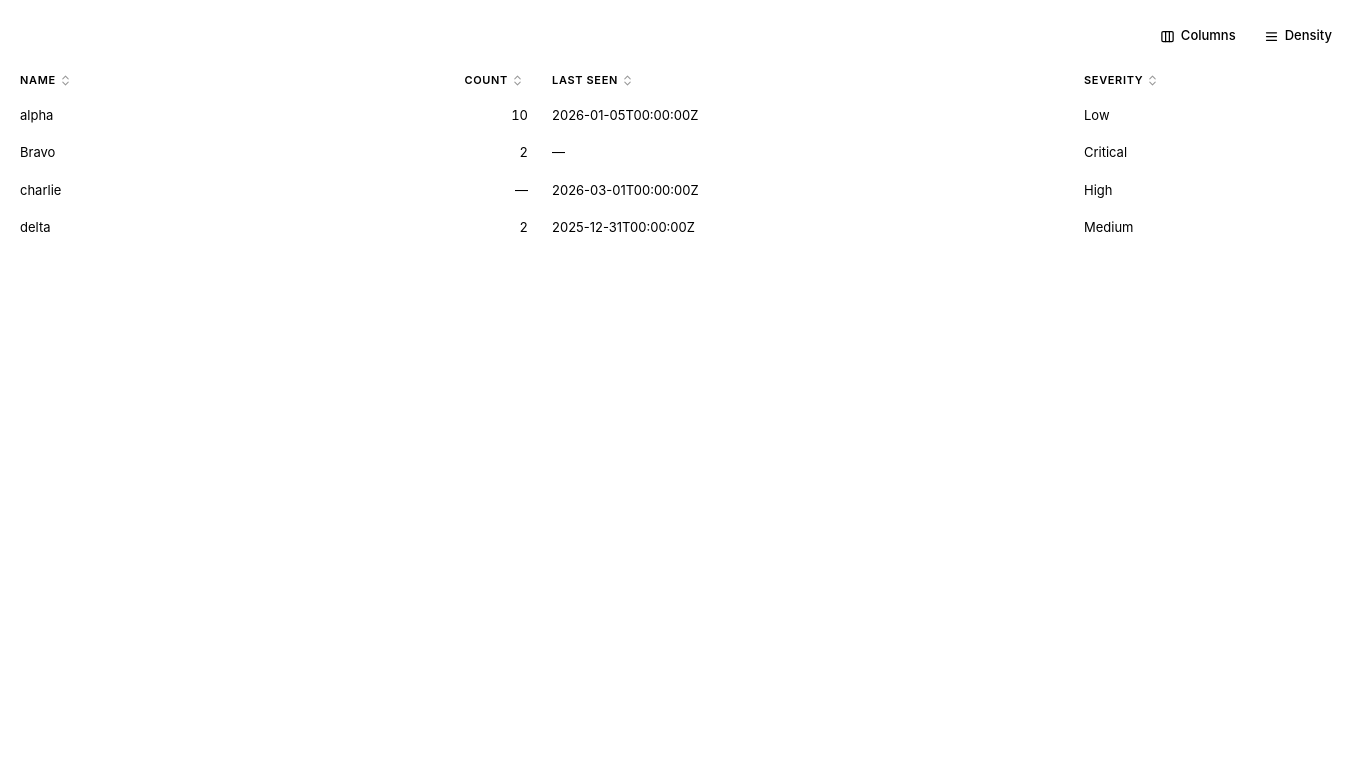
DataGrid › hides and shows columns, keeps required columns visible, and resets the layout
The width and height of the screenshot is (1366, 768).
Later steps or results of the test are not shown.
Click the button "Columns" at (1198,36), box [1150,20,1246,52]
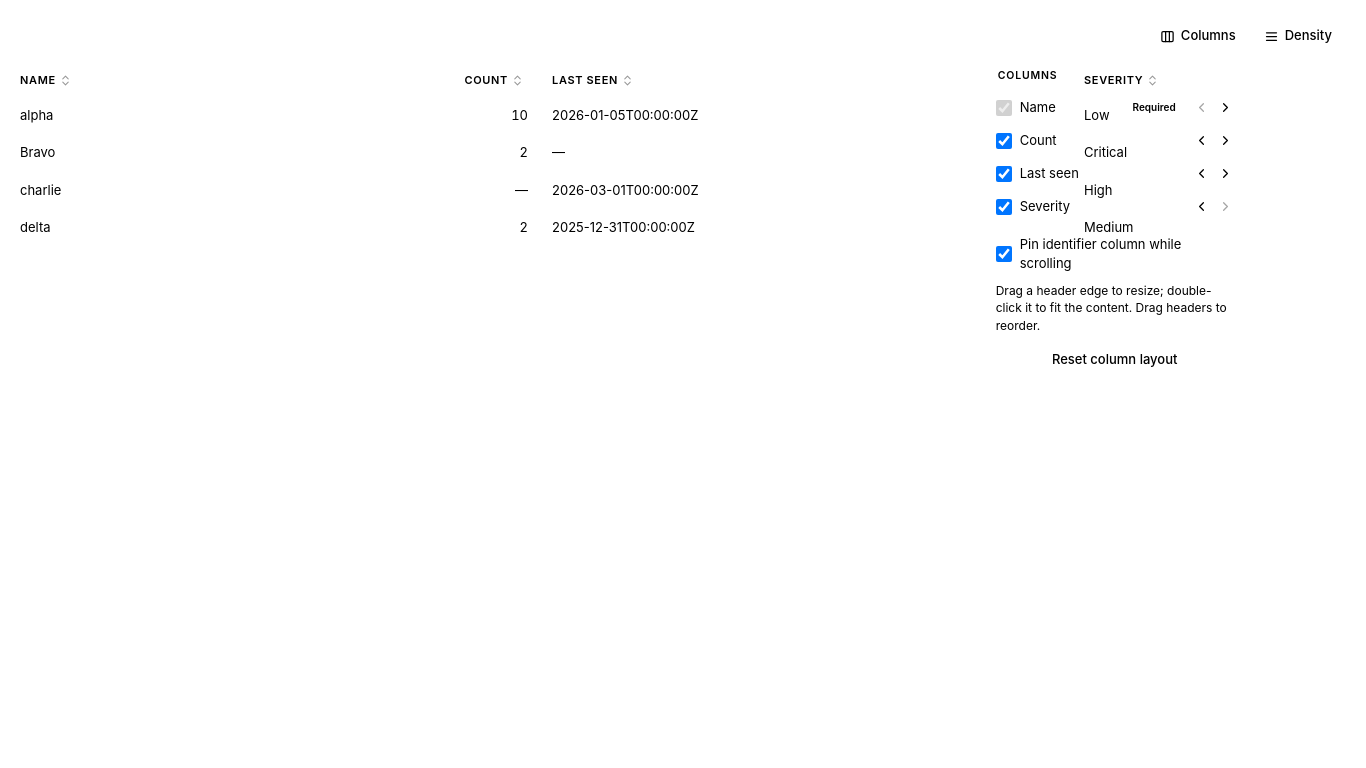
Result: the checkbox labelled "Name Required" is disabled at [996,100,1012,116]
Click the checkbox labelled "Last seen" at (1004,174), box [996,166,1012,182]
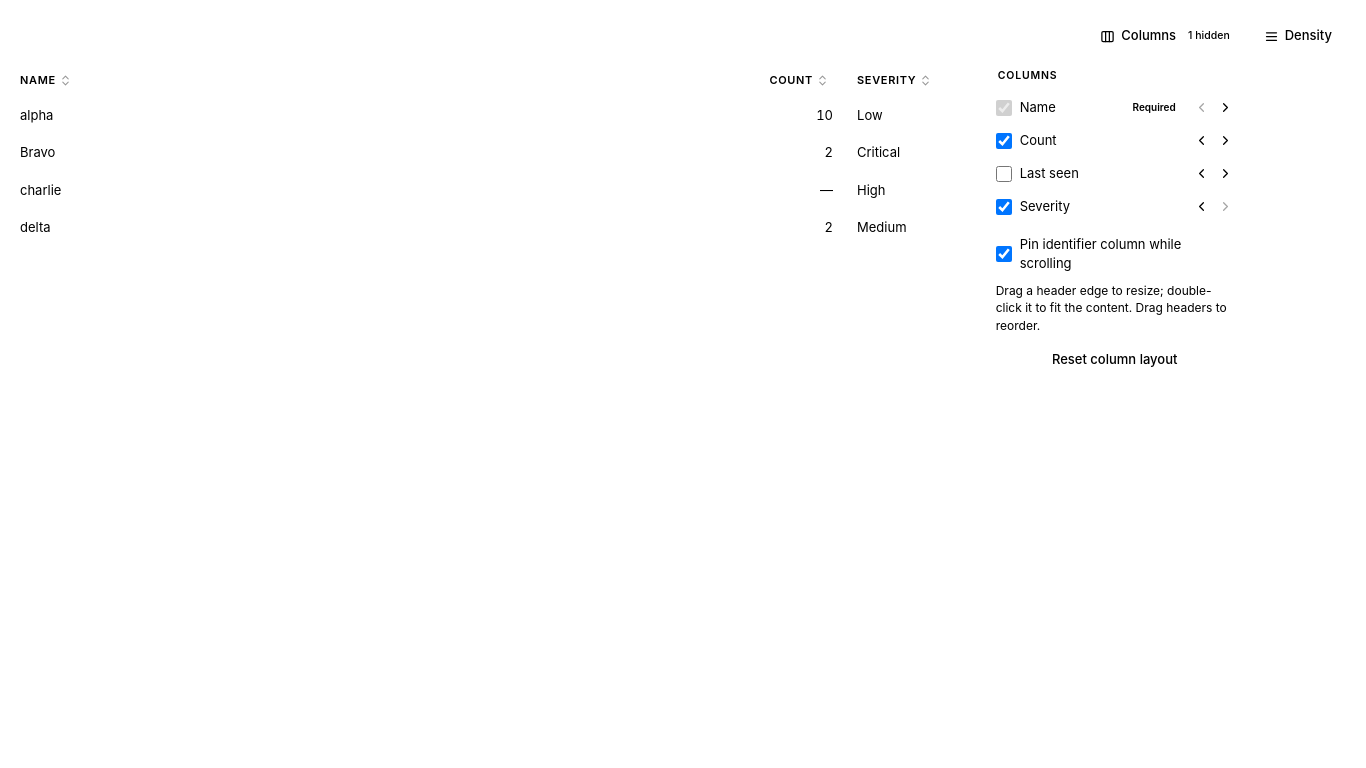
Result: the button "Columns 1 hidden" is shown at [1090,20,1246,52]
